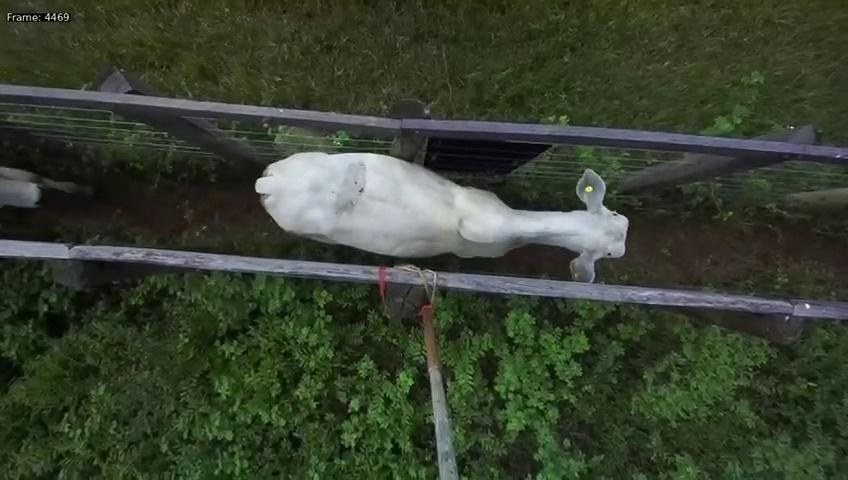cattle: (252, 126, 631, 281)
